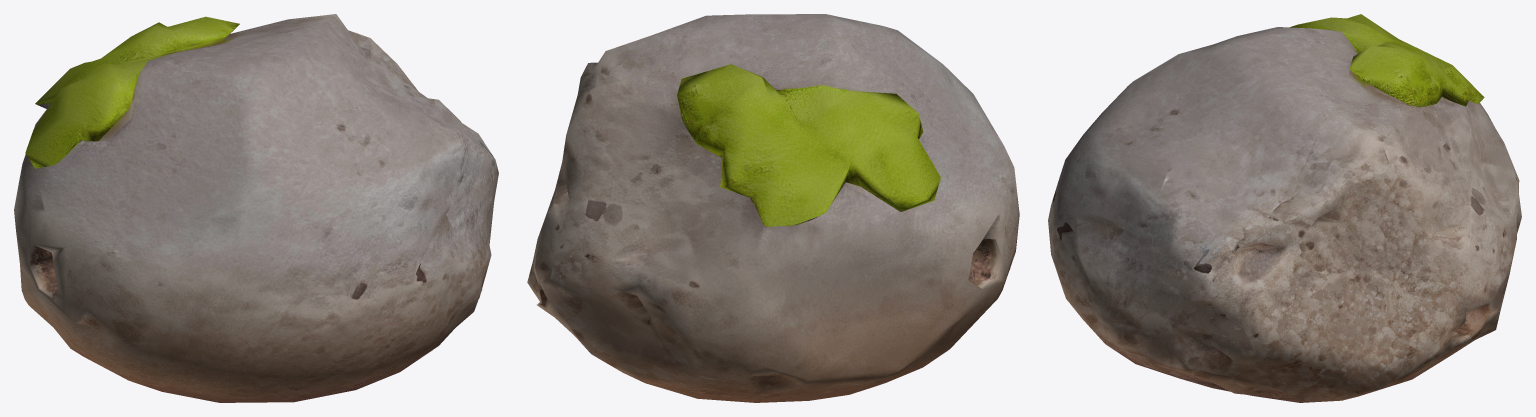
File: prop-boulder.glb
The picture shows the model from 3 angles, left to right: view 1: azimuth 30°, elevation 25°; view 2: azimuth 150°, elevation 25°; view 3: azimuth 270°, elevation 25°; orthographic projection. The views are drawn at different scales.
Visible parts, largest first — view 1: tripo_node_a5bd6ab3-e77f-4f81-a5e9-9cb221097c32; view 2: tripo_node_a5bd6ab3-e77f-4f81-a5e9-9cb221097c32; view 3: tripo_node_a5bd6ab3-e77f-4f81-a5e9-9cb221097c32.
Boxes of the visible parts, x1,y1,x2,y2 form: tripo_node_a5bd6ab3-e77f-4f81-a5e9-9cb221097c32: [14, 14, 498, 402]; tripo_node_a5bd6ab3-e77f-4f81-a5e9-9cb221097c32: [527, 14, 1019, 402]; tripo_node_a5bd6ab3-e77f-4f81-a5e9-9cb221097c32: [1048, 14, 1521, 402].
Bounding box in the file's own units: 0.9729 × 0.6693 × 0.9807.
Materials: 1 (1 with a texture image).
